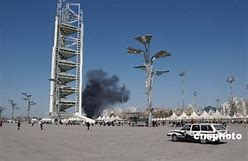smoke: (81, 69, 130, 117)
